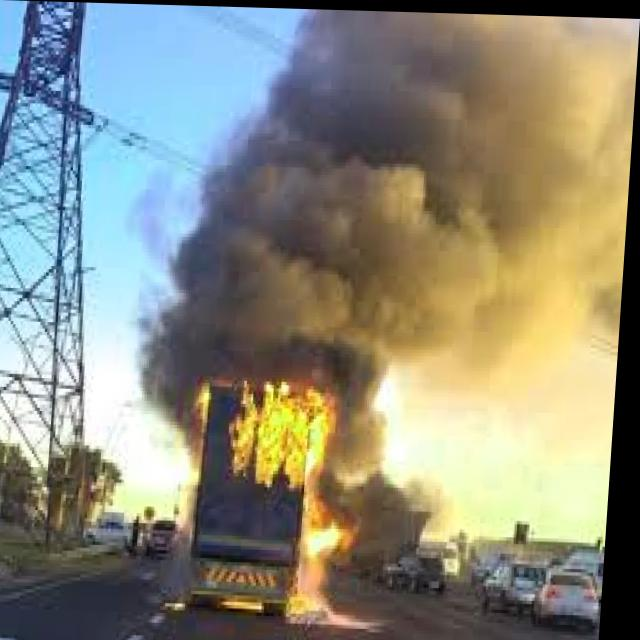fire: (188, 362, 374, 620)
